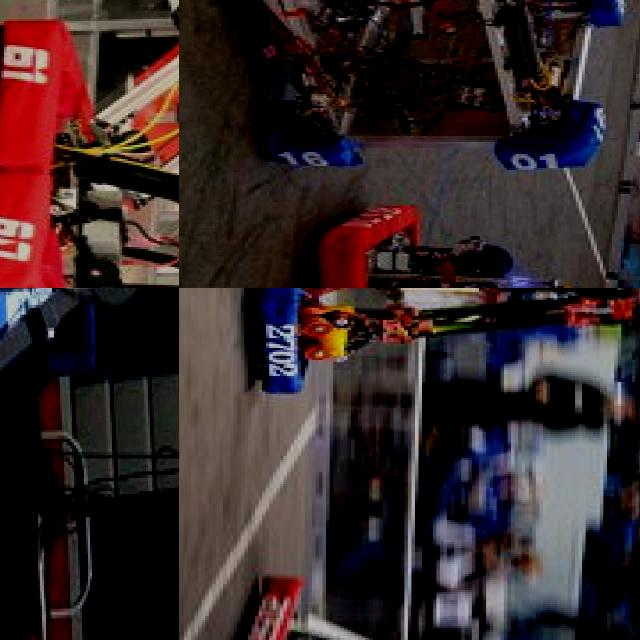FRC-Robots: (198, 0, 552, 188), (0, 288, 176, 640), (230, 288, 640, 430), (0, 0, 179, 288), (279, 207, 545, 288)
